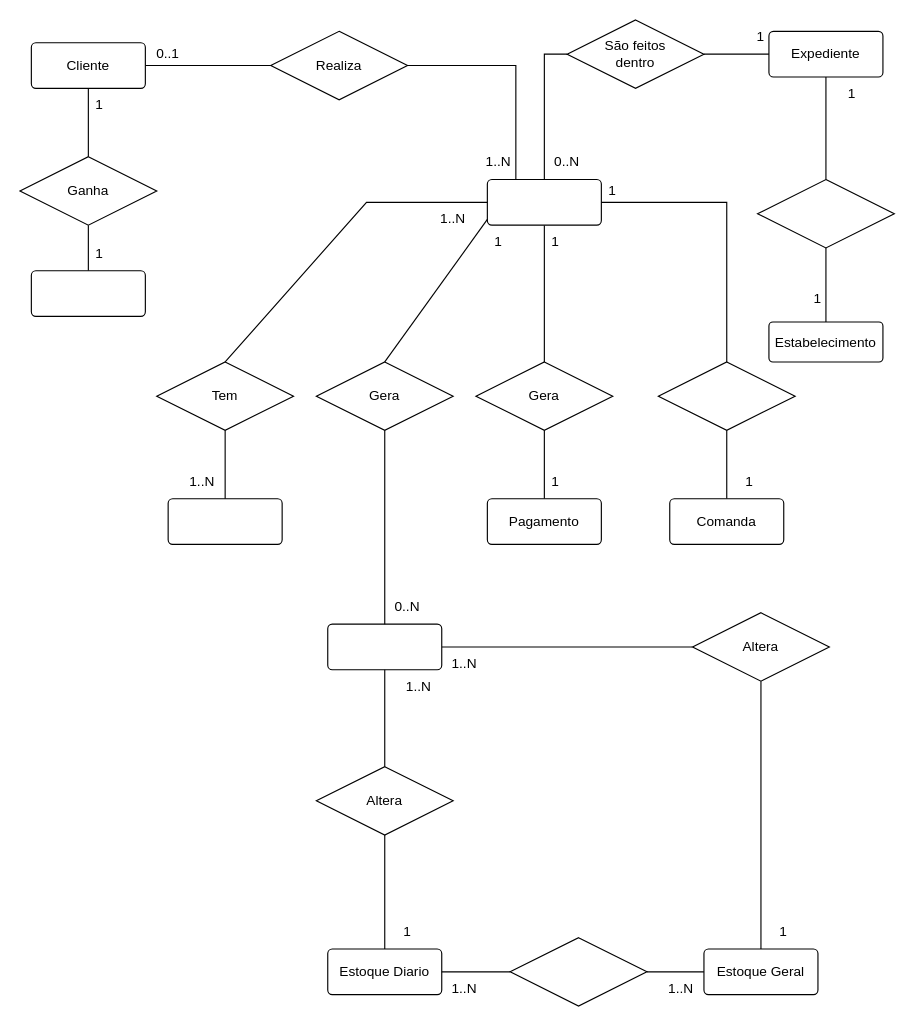
Some shapes in this 914 by 1026 pixel diagram are drawn without their labels. The centre of each missing label's shape, as x and y in pixels:
"Abastece" belongs at (578,971).
"Esta dentro" belongs at (726,395).
"Esta Vinculado" belongs at (825,213).
"Fidelidade" belongs at (87,293).
"Item Cardápio" belongs at (224,521).
"Movimentação Estoque" belongs at (384,646).
"Pedido" belongs at (543,201).
